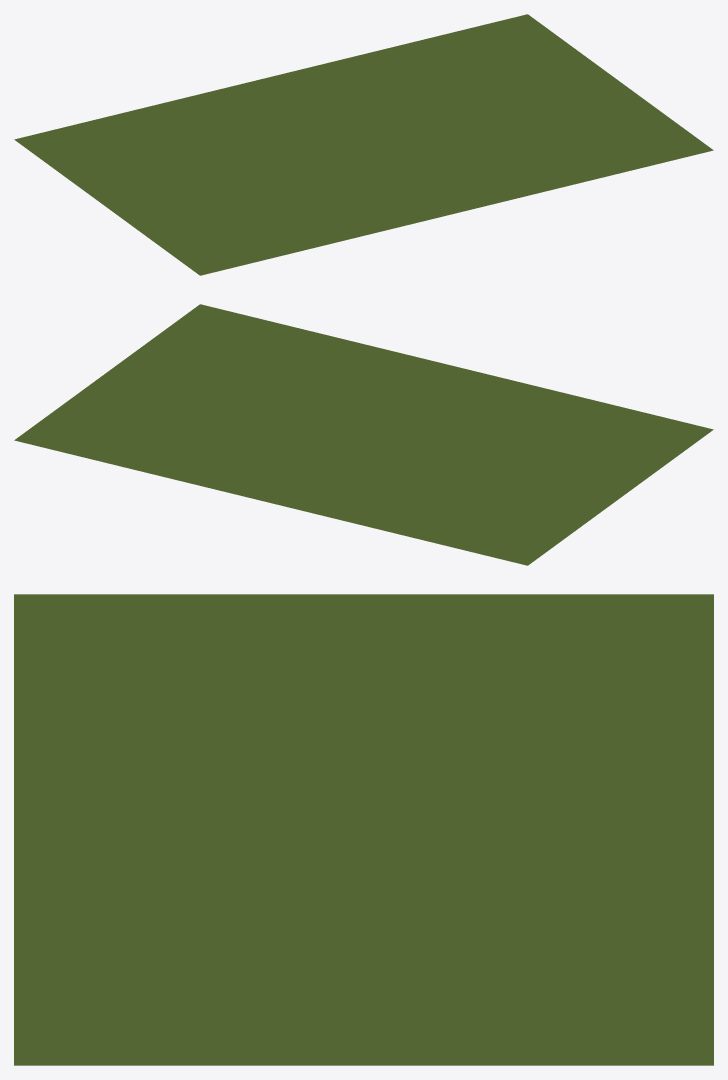
The model's file is snookerMat.obj.
3 views of the same model, one above another, from view 1: azimuth 30°, elevation 25°; view 2: azimuth 150°, elevation 25°; view 3: azimuth 270°, elevation 25° (orthographic). The views are drawn at different scales.
Visible parts, largest first — view 1: Plane; view 2: Plane; view 3: Plane.
Part boxes in pixels (box(x1,y1,x2,y2)): Plane: box(14, 14, 713, 275); Plane: box(14, 304, 713, 565); Plane: box(14, 594, 713, 1065).
Size of the model in its own units: 12.94 by 0 by 8.12.
Materials: 1 (1 with a texture image).
